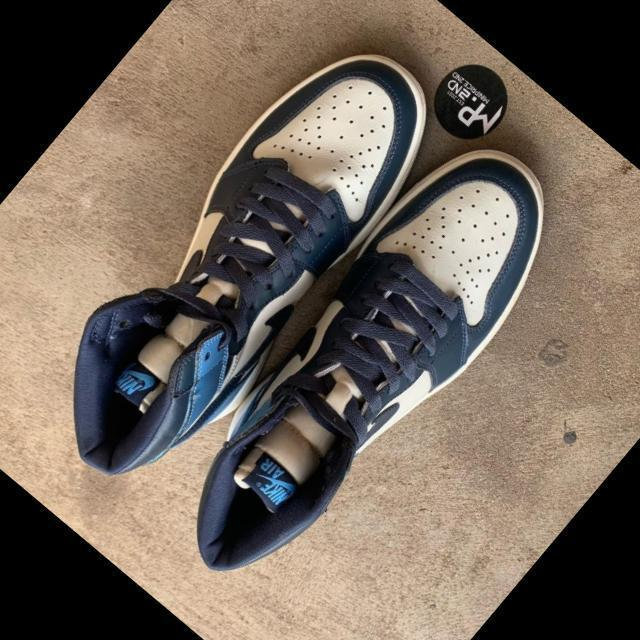nike original jordan 1: (11, 2, 473, 508), (140, 115, 594, 612)
